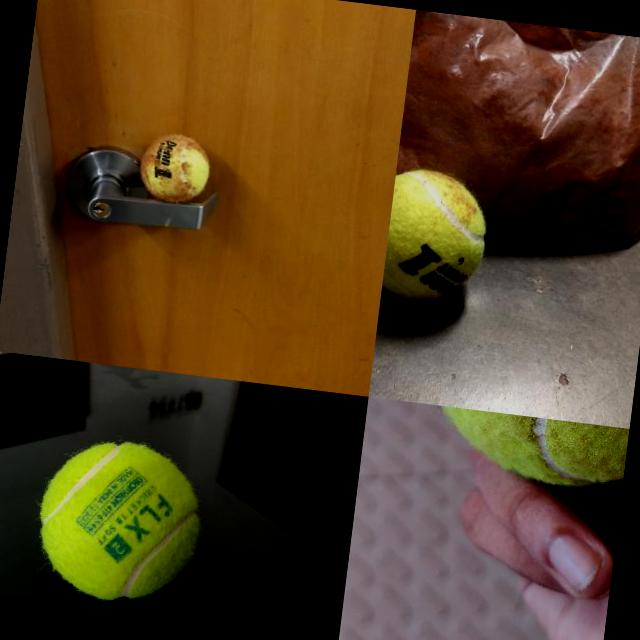tennis-ball: (28, 430, 210, 610), (400, 401, 628, 492), (381, 164, 494, 307), (134, 128, 214, 204)
